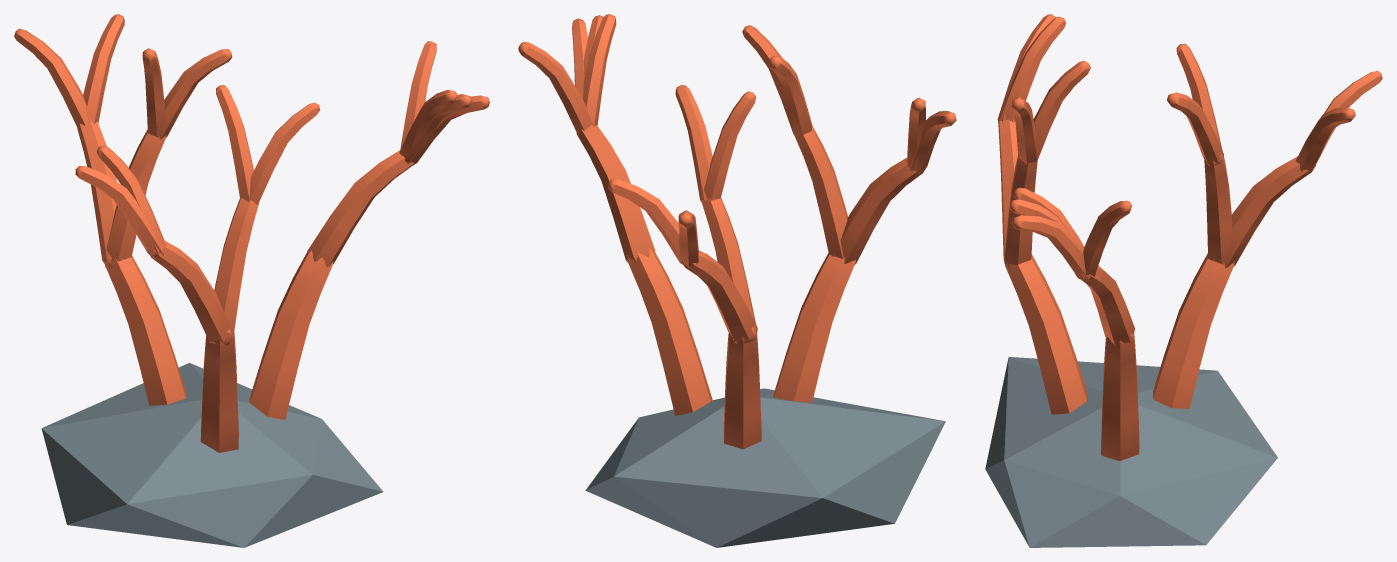
The model's file is W2_Coral_A.fbx.
The picture shows the model from 3 angles, left to right: view 1: azimuth 30°, elevation 25°; view 2: azimuth 150°, elevation 25°; view 3: azimuth 270°, elevation 25°; orthographic projection.
Parts seen in each view (by area): view 1: W2_Coral_A; view 2: W2_Coral_A; view 3: W2_Coral_A.
Boxes of the visible parts, left/top/right/bottom form: W2_Coral_A: left=14, top=14, right=489, bottom=547; W2_Coral_A: left=518, top=14, right=956, bottom=547; W2_Coral_A: left=985, top=14, right=1382, bottom=547.
Size of the model in its own units: 2.49 by 2.54 by 2.15.
